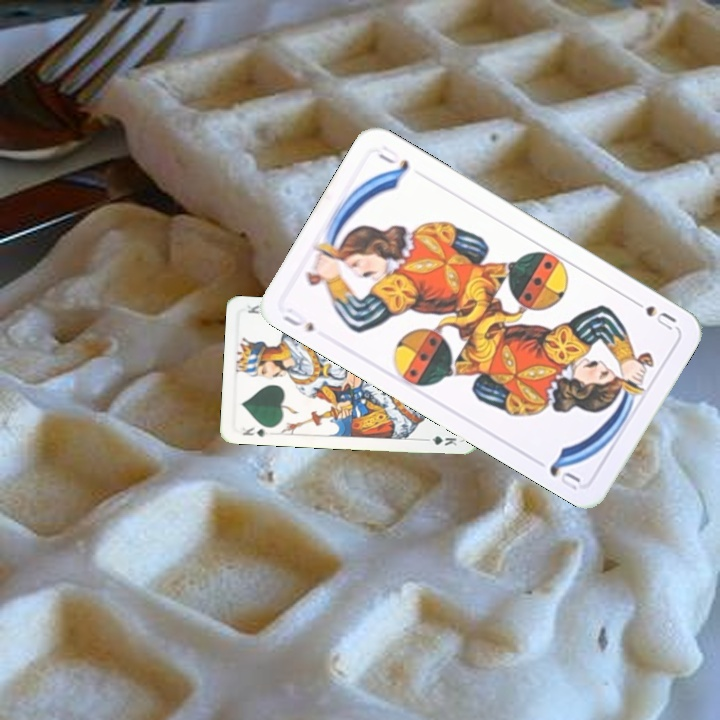GK: (238, 423, 272, 439)
SU: (626, 294, 679, 333), (278, 303, 317, 335)
